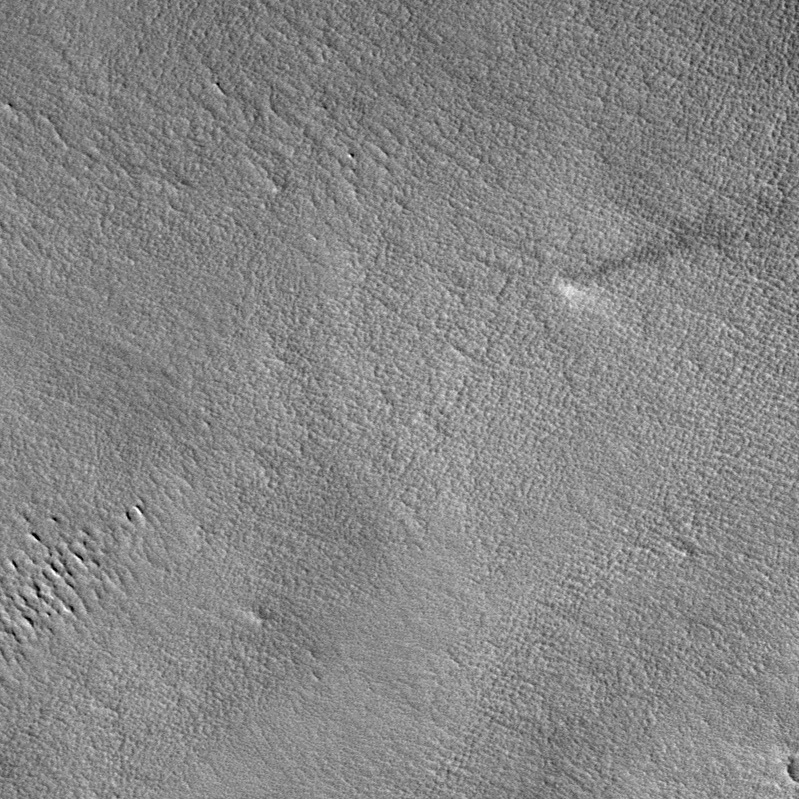dust_devil: (551, 217, 741, 307)
